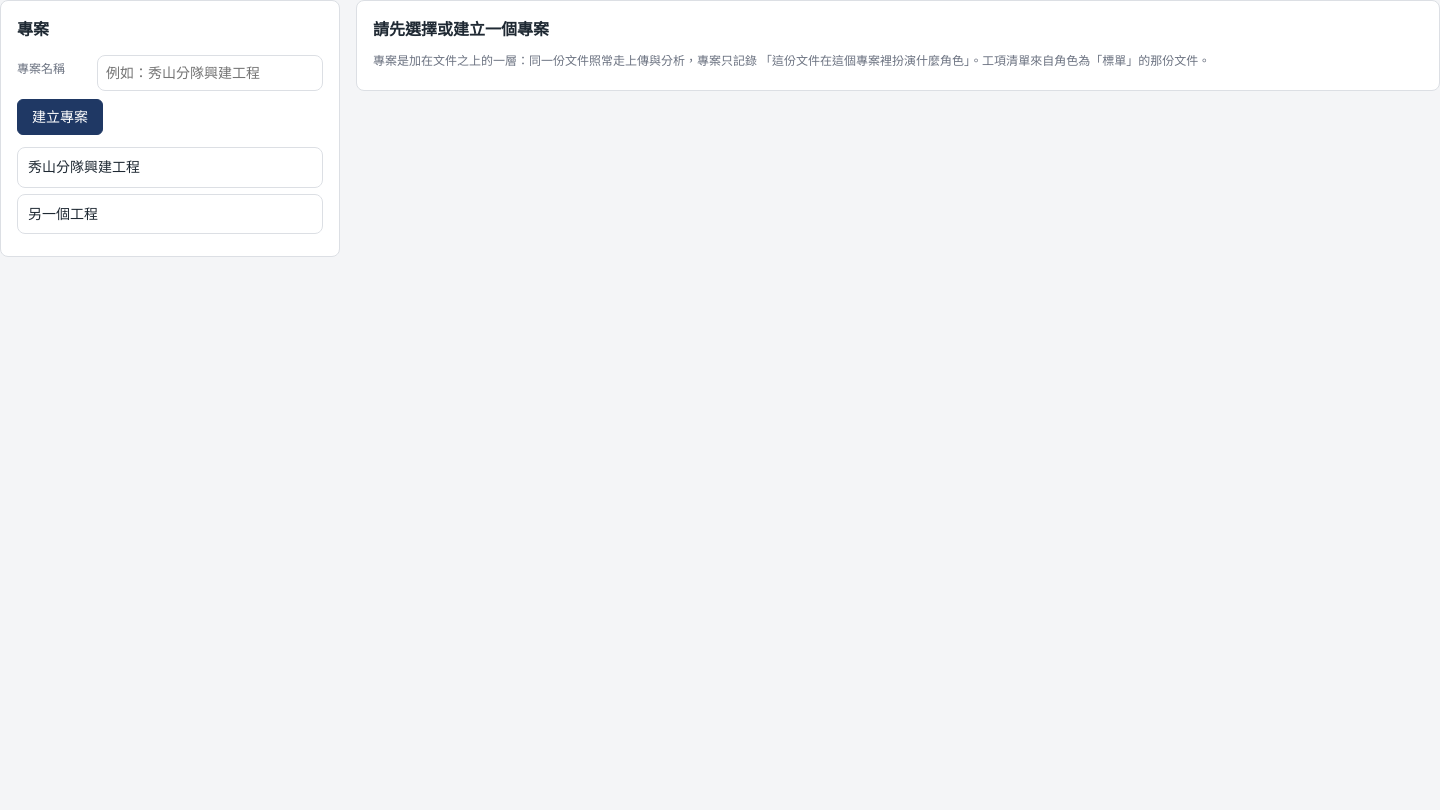
it: ProjectWorkItemsPage › 換到另一個專案時，不會把上一個專案的檢核表留在畫面上
The width and height of the screenshot is (1440, 810).
Click the list item "秀山分隊興建工程" at x=170, y=168, box [17,147,323,188]
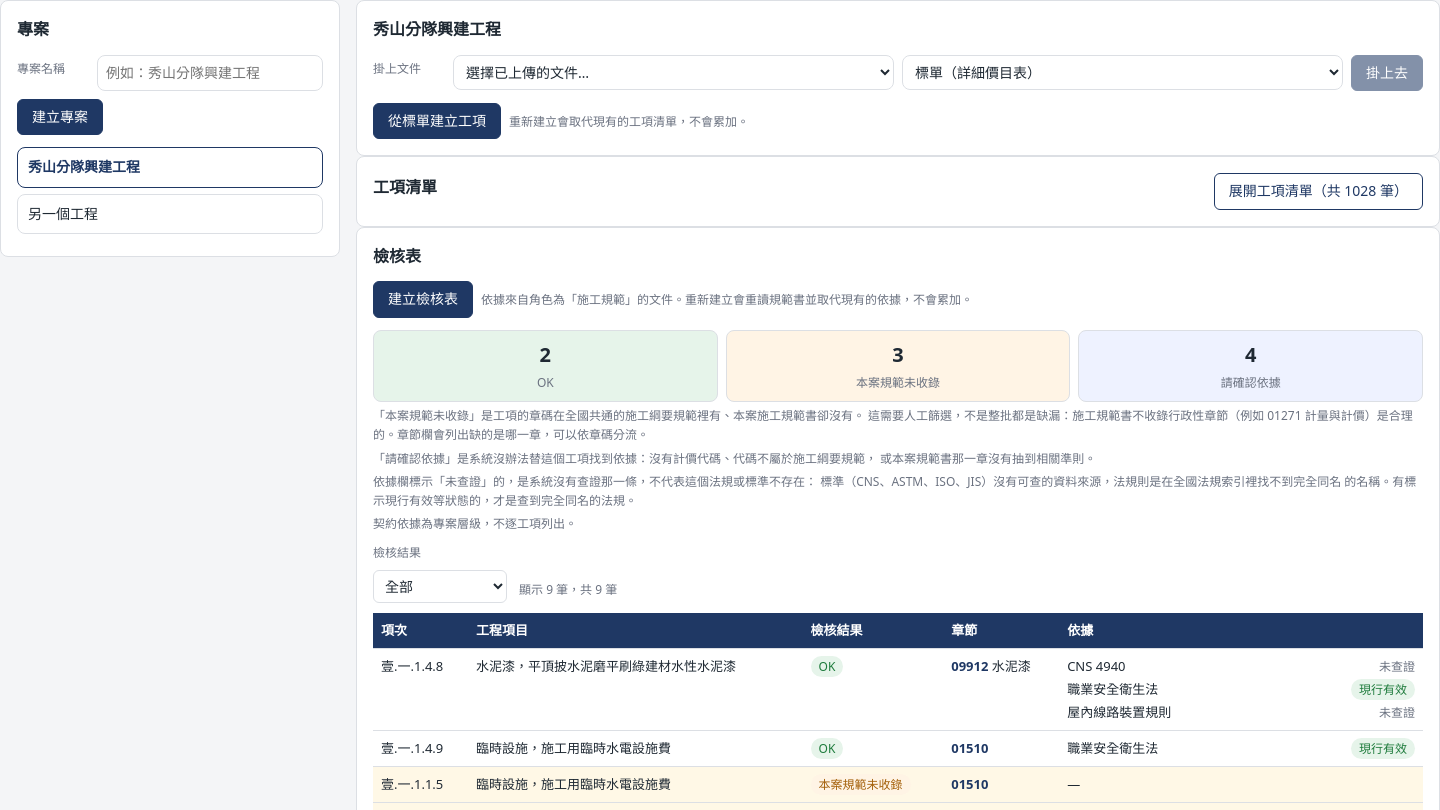
Now the text "壹.一.1.4.8" is shown, box [373,649,468,731]
Click the list item "另一個工程" at x=170, y=214, box [17,194,323,234]
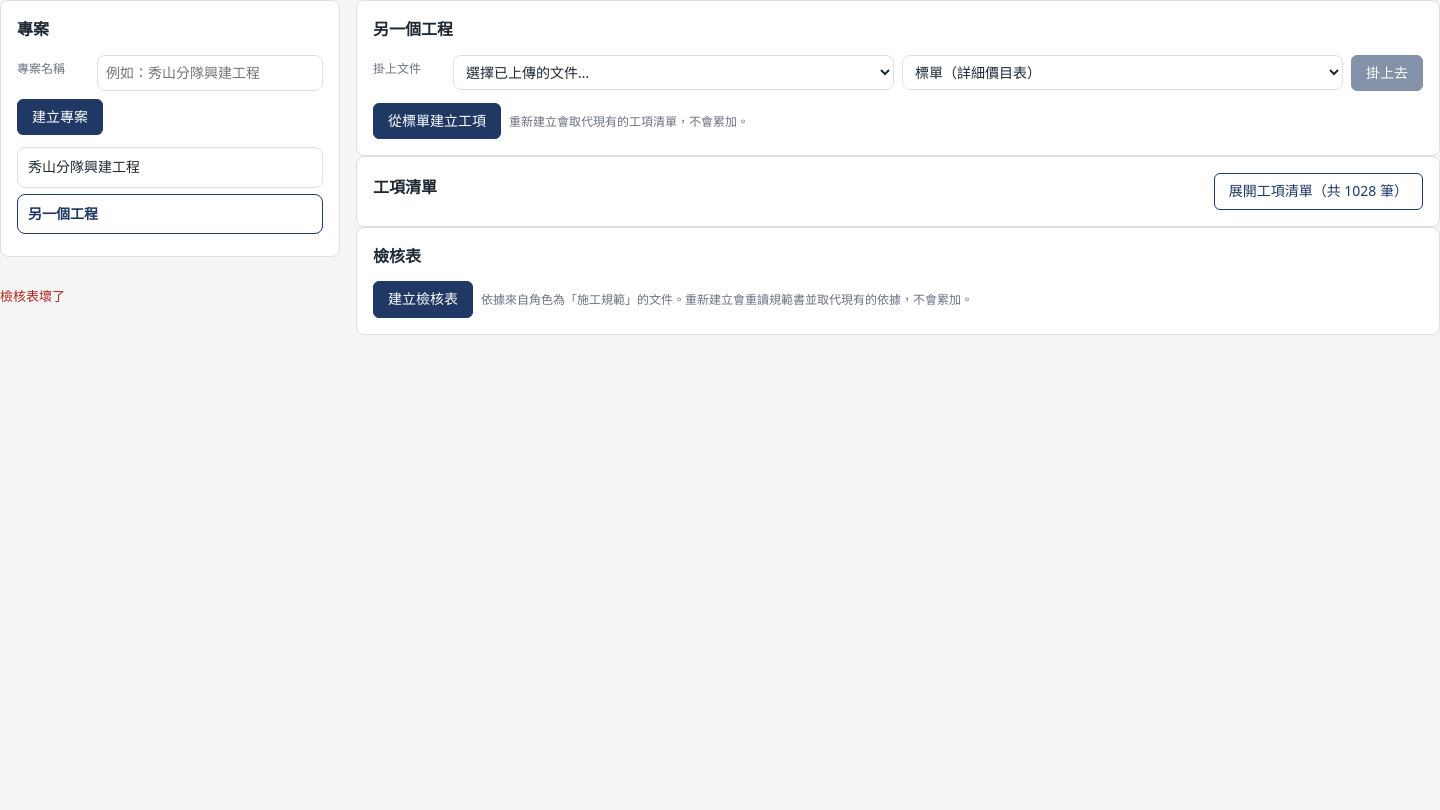
Now the text "檢核表壞了" is shown, box [0,287,65,305]
Now the text "壹.一.1.4.8" is gone
